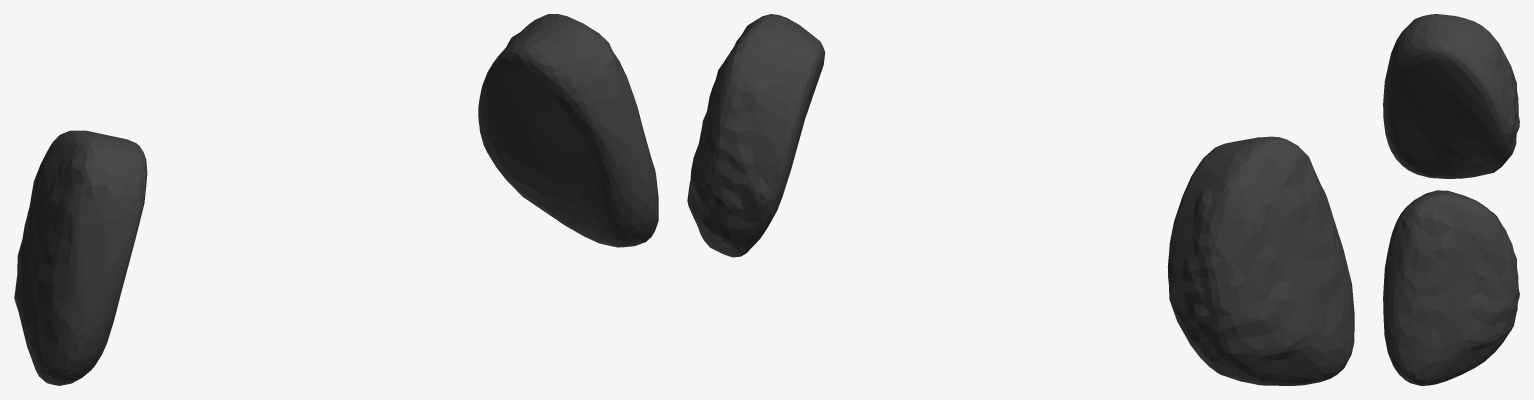
The model's file is parotid_gland.glb.
3 renders of one model, left to right at view 1: azimuth 30°, elevation 25°; view 2: azimuth 150°, elevation 25°; view 3: azimuth 270°, elevation 25°, orthographic. The views are drawn at different scales.
Parts seen in each view (by area): view 1: parotid_gland; view 2: parotid_gland; view 3: parotid_gland.
Boxes of the visible parts, x1,y1,x2,y2 form: parotid_gland: [14, 14, 658, 385]; parotid_gland: [687, 14, 1354, 385]; parotid_gland: [1383, 14, 1519, 385].
Size of the model in its own units: 0.00259 by 0.000914 by 0.000654.
Materials: 1 (1 with a texture image).
